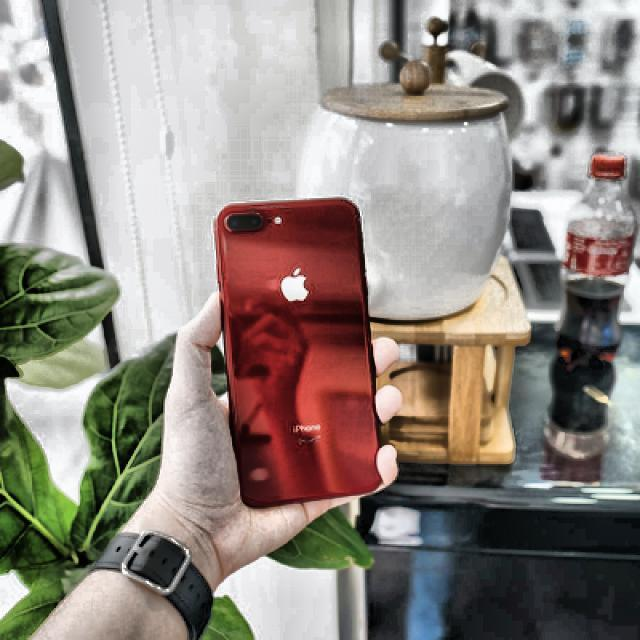Phone: (211, 197, 386, 507)
